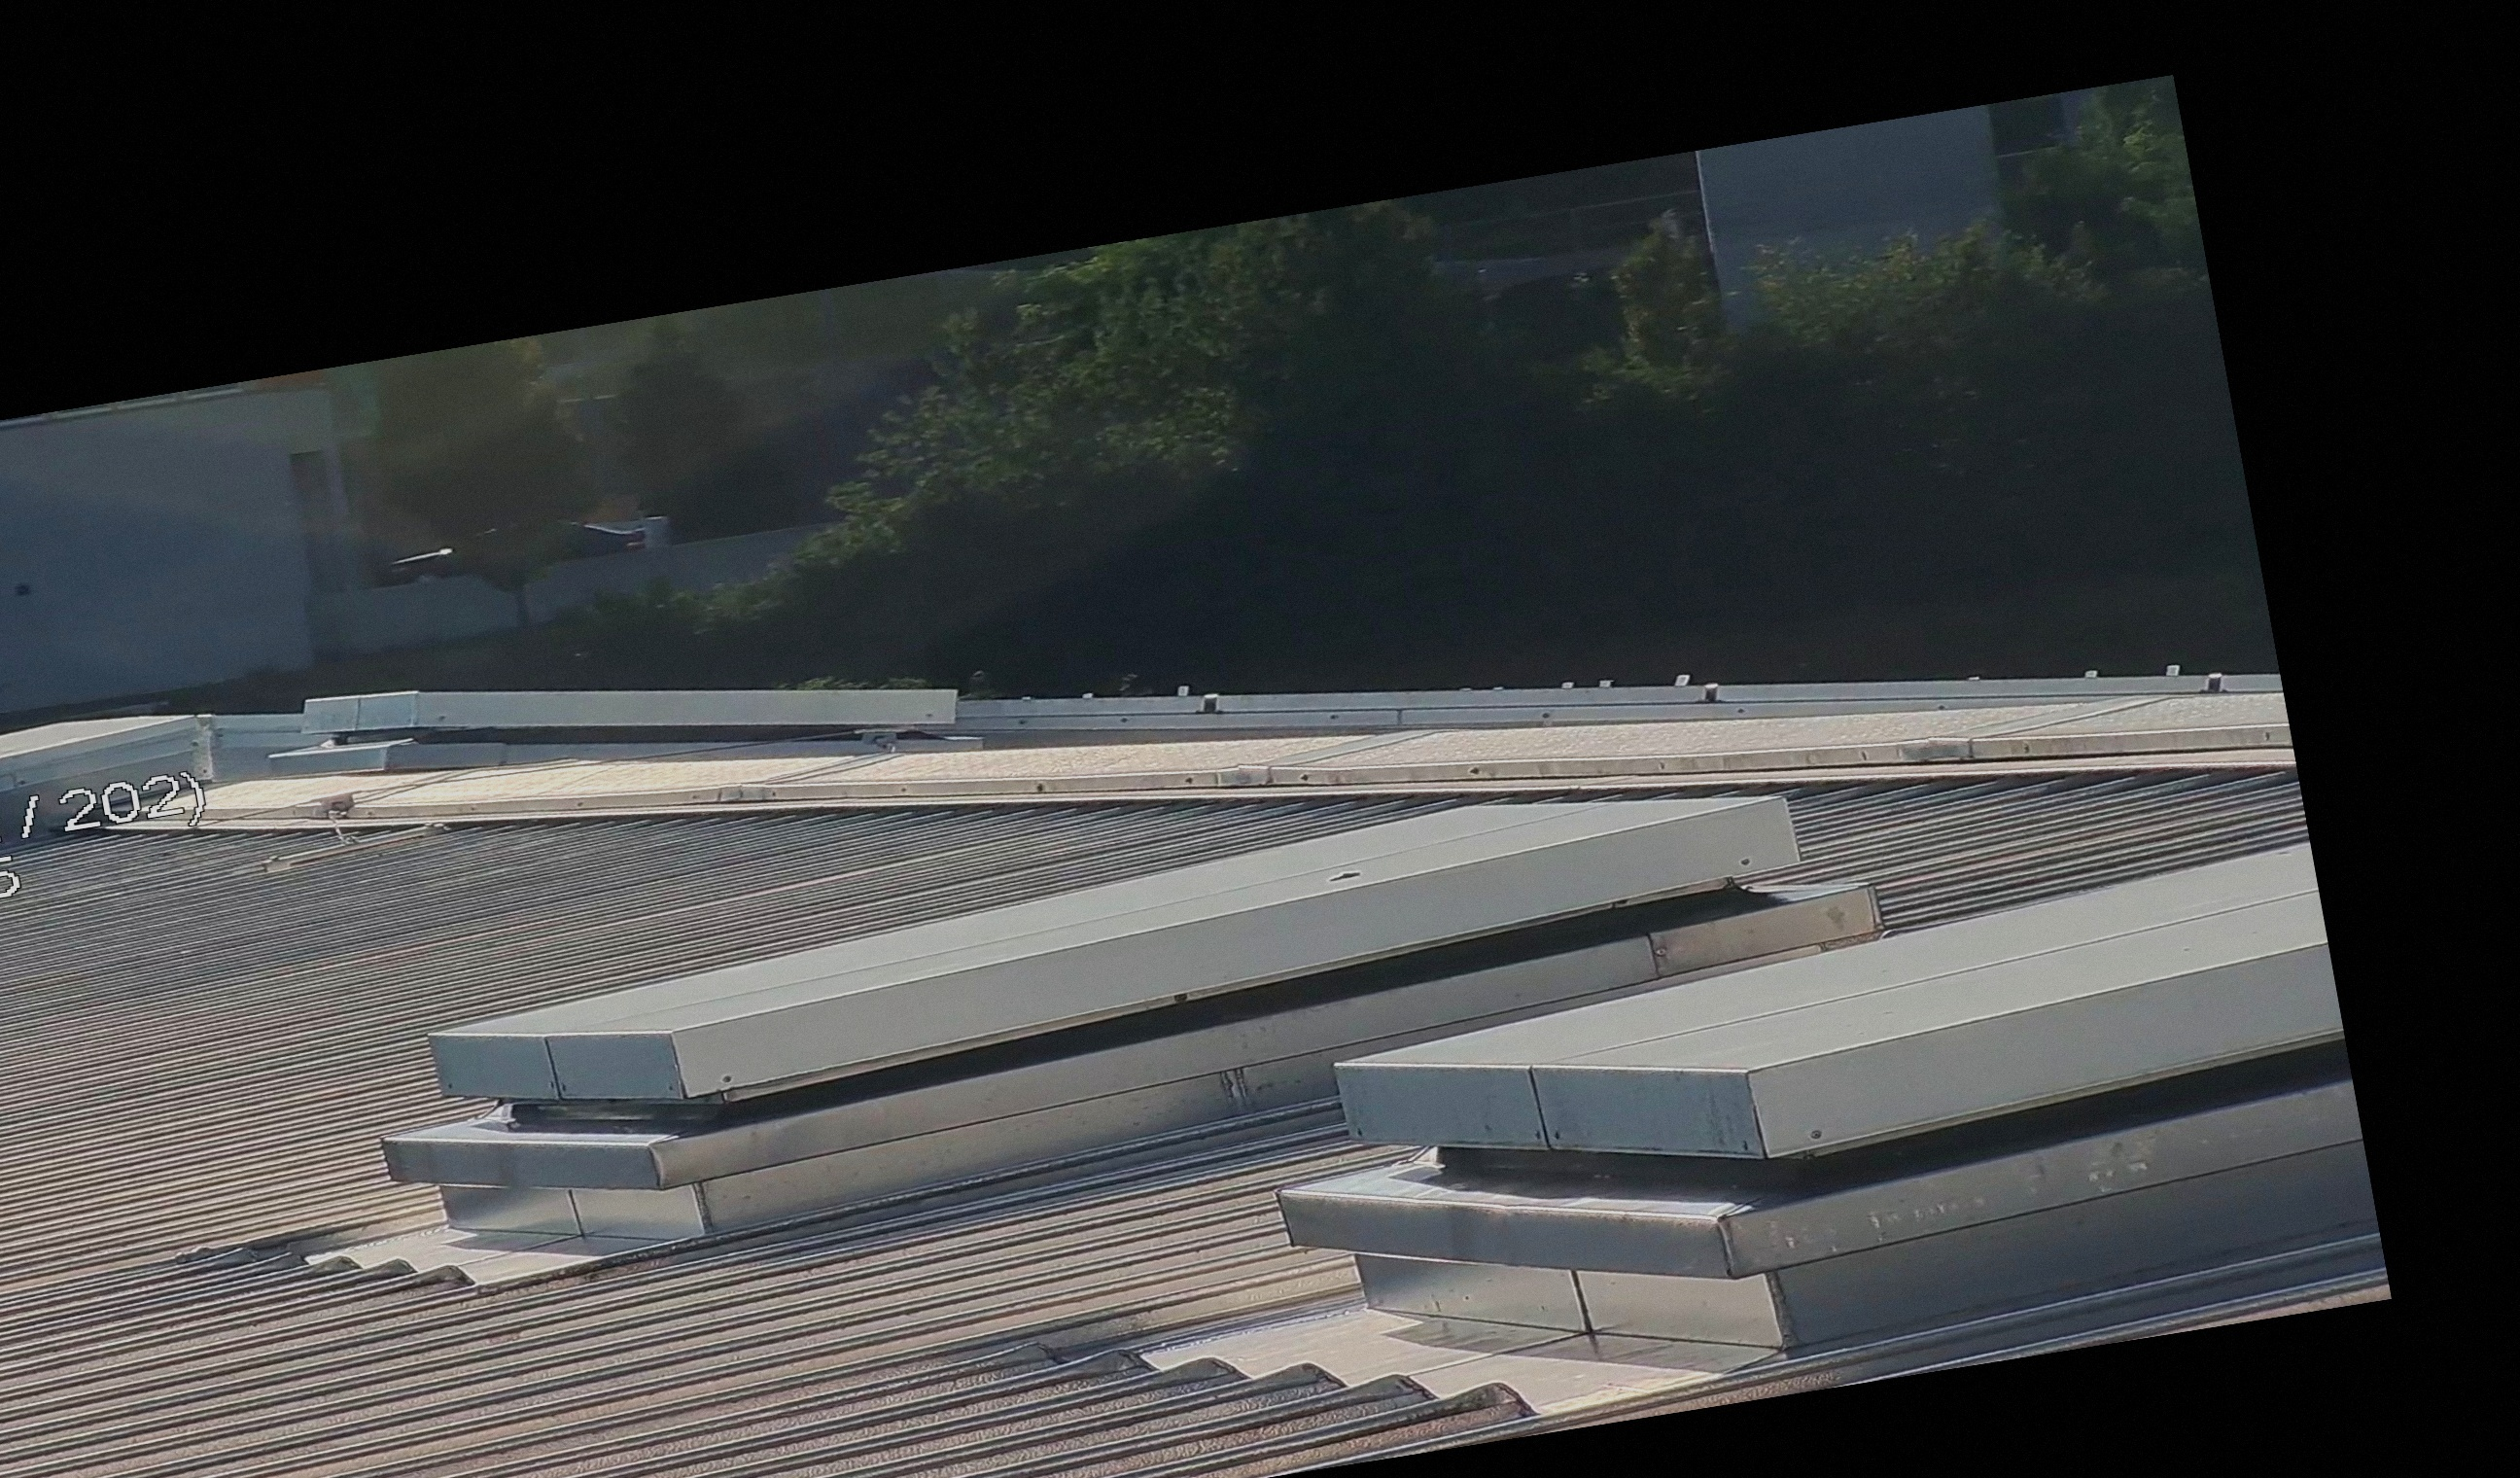Other: (380, 482, 663, 621)
